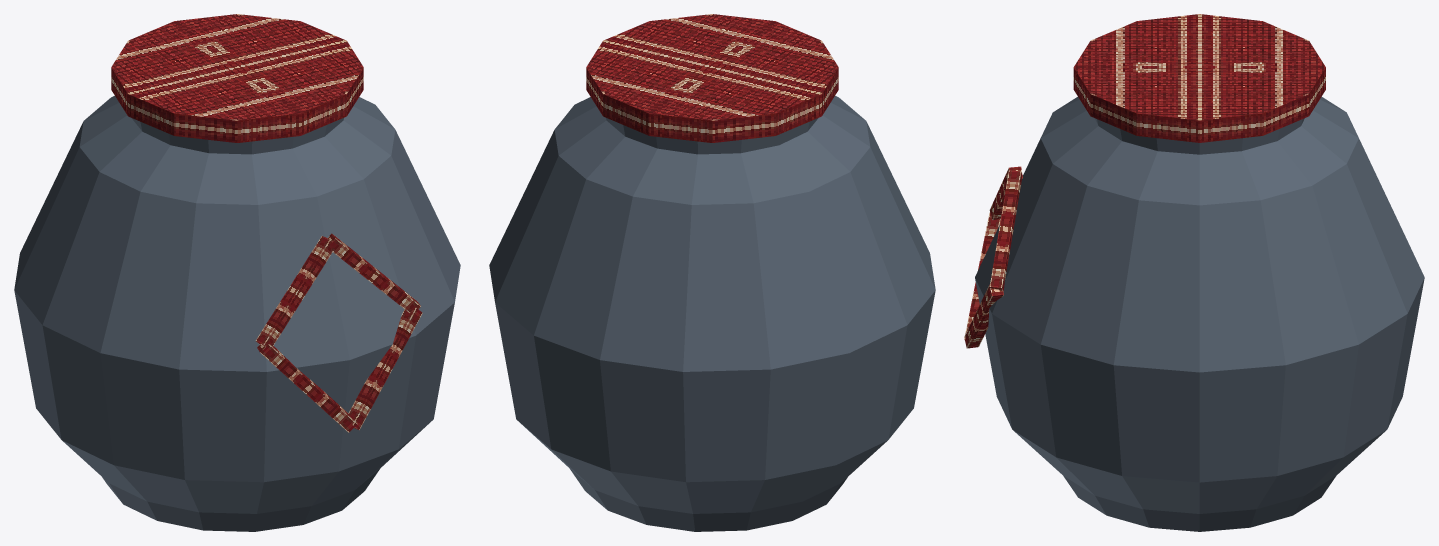
Rendered from wine_jar.glb.
3 views of the same model, side by side, from view 1: azimuth 30°, elevation 25°; view 2: azimuth 150°, elevation 25°; view 3: azimuth 270°, elevation 25° (orthographic).
Visible parts, largest first — view 1: wine_jar_canal_ceramic, wine_jar_canal_red; view 2: wine_jar_canal_ceramic, wine_jar_canal_red; view 3: wine_jar_canal_ceramic, wine_jar_canal_red.
Part boxes in pixels (x1,y1,x2,y2): wine_jar_canal_ceramic: [14, 96, 460, 531]; wine_jar_canal_red: [111, 14, 422, 432]; wine_jar_canal_ceramic: [489, 96, 935, 531]; wine_jar_canal_red: [586, 14, 838, 142]; wine_jar_canal_ceramic: [975, 97, 1424, 531]; wine_jar_canal_red: [964, 14, 1325, 348].
Size of the model in its own units: 0.82 by 0.8225 by 0.8394.
2 materials, 1 textured.
